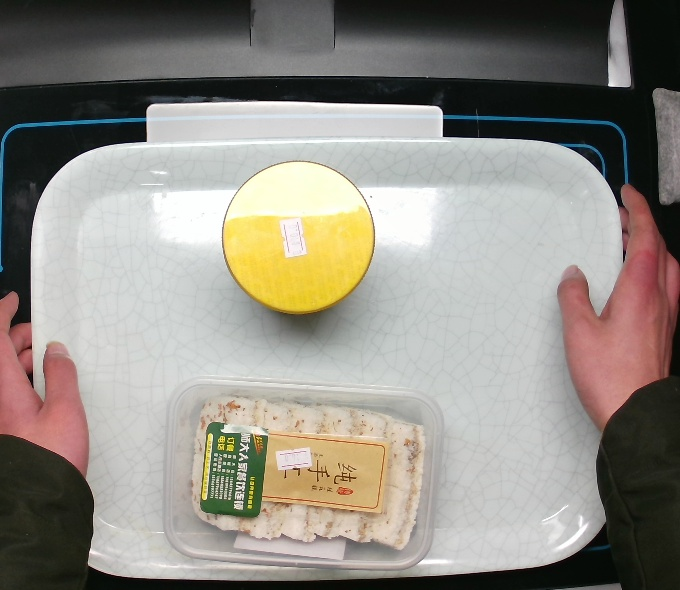wcq-GuiHuaGao: (159, 372, 446, 573)
wcq-MaiYaTang: (221, 159, 378, 319)
